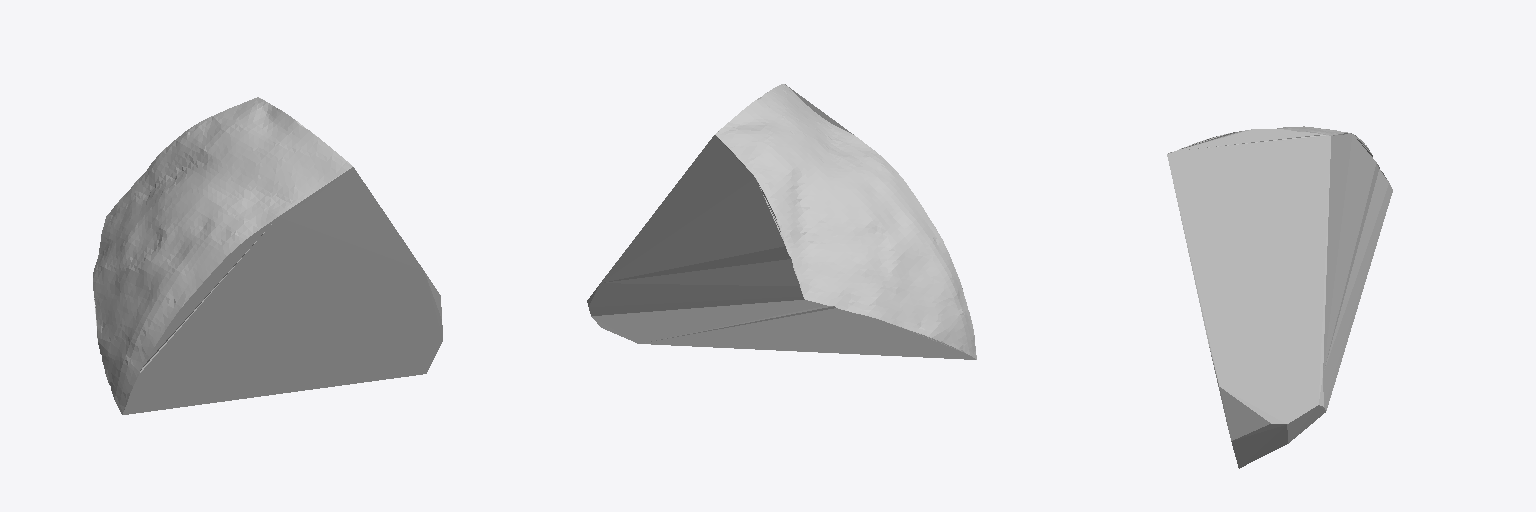
The model's file is low_cell_070.obj.
3 renders of one model, left to right at view 1: azimuth 30°, elevation 25°; view 2: azimuth 150°, elevation 25°; view 3: azimuth 270°, elevation 25°, orthographic.
Parts seen in each view (by area): view 1: low_cell.070_low_cell.069; view 2: low_cell.070_low_cell.069; view 3: low_cell.070_low_cell.069.
Boxes of the visible parts, x1,y1,x2,y2 form: low_cell.070_low_cell.069: [93, 97, 442, 414]; low_cell.070_low_cell.069: [587, 84, 976, 359]; low_cell.070_low_cell.069: [1167, 126, 1392, 468].
Bounding box in the file's own units: 0.9945 × 0.772 × 0.5679.